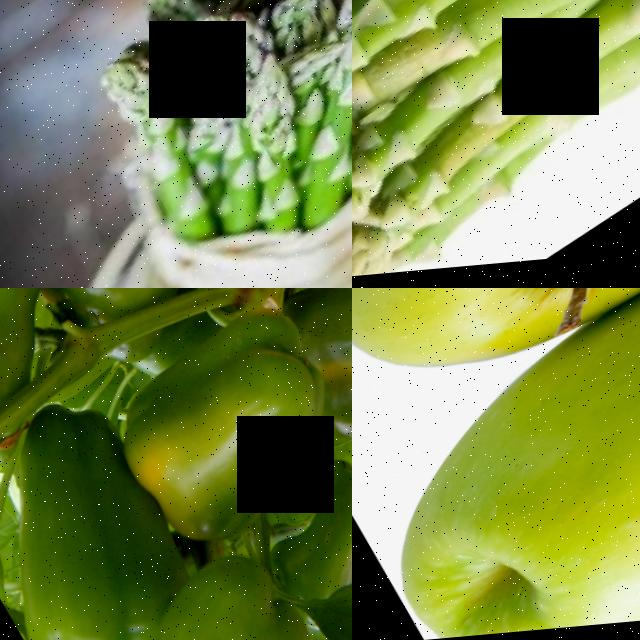apple: (352, 288, 640, 640), (352, 288, 640, 456)
asparagus: (373, 1, 640, 209), (74, 27, 235, 230), (222, 41, 352, 217), (352, 0, 517, 134), (303, 0, 352, 143)
bell pepper: (100, 304, 352, 578), (0, 408, 212, 640), (120, 562, 352, 640), (0, 288, 190, 368), (301, 288, 352, 455), (0, 288, 72, 395)
